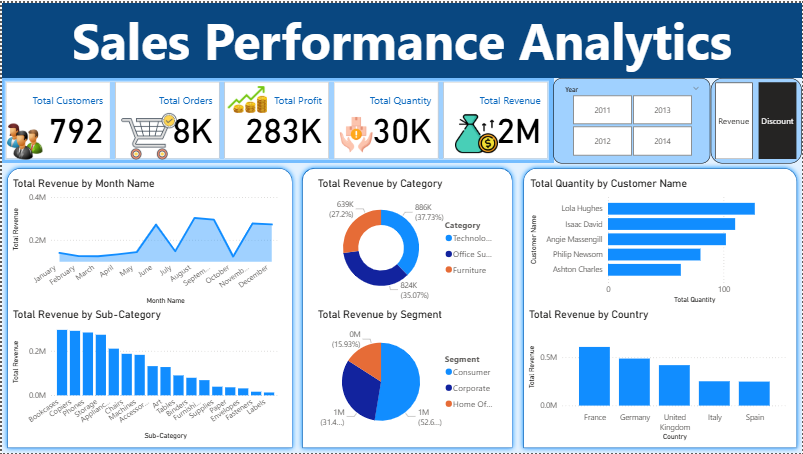

What the dashboard file says about the page in this screenshot:
{"tool":"powerbi","page":{"name":"Revenue","canvas":[1280,720],"ordinal":0},"visuals":[{"type":"shape","box":[0,0,1280,120],"z":0},{"type":"shape","box":[0,255.7,472.9,464.3],"z":1000},{"type":"shape","box":[825.7,255.7,454.3,464.3],"z":2000},{"type":"shape","box":[472.9,255.7,352.9,464.3],"z":3000},{"type":"cardVisual","fields":{"Data":["MyMeasure.Total Customers","MyMeasure.Total Orders","MyMeasure.Total Profit","MyMeasure.Total Quantity","MyMeasure.Total Revenue"]},"box":[0,120,882.9,135.7],"z":4000},{"type":"areaChart","fields":{"Category":["ListOfOrders.Month Name"],"Y":["MyMeasure.Total Revenue"]},"box":[11.4,278.6,437.1,210],"z":5000},{"type":"columnChart","fields":{"Y":["MyMeasure.Total Revenue"],"Category":["OrderBreakdown.Sub-Category"]},"box":[11.4,488.6,437.1,215.7],"z":6000},{"type":"donutChart","fields":{"Y":["MyMeasure.Total Revenue"],"Category":["OrderBreakdown.Category"]},"box":[500,278.6,301.4,208.6],"z":7000},{"type":"pieChart","fields":{"Y":["MyMeasure.Total Revenue"],"Category":["ListOfOrders.Segment"]},"box":[500,487.1,301.4,217.1],"z":8000},{"type":"clusteredBarChart","fields":{"Y":["MyMeasure.Total Quantity"],"Category":["ListOfOrders.Customer Name"]},"box":[838.6,278.6,422.9,208.6],"z":9000},{"type":"columnChart","fields":{"Y":["MyMeasure.Total Revenue"],"Category":["ListOfOrders.Country"]},"box":[838.6,487.1,422.9,217.1],"z":10000},{"type":"slicer","fields":{"Values":["ListOfOrders.Order Date.Variation.Date Hierarchy.Year"]},"box":[882.9,120,251.4,137.1],"z":11000},{"type":"pageNavigator","box":[1135,120,145,135],"z":12000}]}

Visuals, with their boxes in screenshot pixels (x1, y1, x2, y2), scaled from the page's 1280x720 canvas onto the 803x454 screenshot:
shape: 0 0 802 76
shape: 0 161 297 453
shape: 518 161 802 453
shape: 297 161 518 453
cardVisual - MyMeasure.Total Customers x MyMeasure.Total Orders: 0 76 554 161
areaChart - ListOfOrders.Month Name x MyMeasure.Total Revenue: 7 176 281 308
columnChart - MyMeasure.Total Revenue x OrderBreakdown.Sub-Category: 7 308 281 444
donutChart - MyMeasure.Total Revenue x OrderBreakdown.Category: 314 176 503 307
pieChart - MyMeasure.Total Revenue x ListOfOrders.Segment: 314 307 503 444
clusteredBarChart - MyMeasure.Total Quantity x ListOfOrders.Customer Name: 526 176 791 307
columnChart - MyMeasure.Total Revenue x ListOfOrders.Country: 526 307 791 444
slicer - ListOfOrders.Order Date.Variation.Date Hierarchy.Year: 554 76 712 162
pageNavigator: 712 76 802 161
